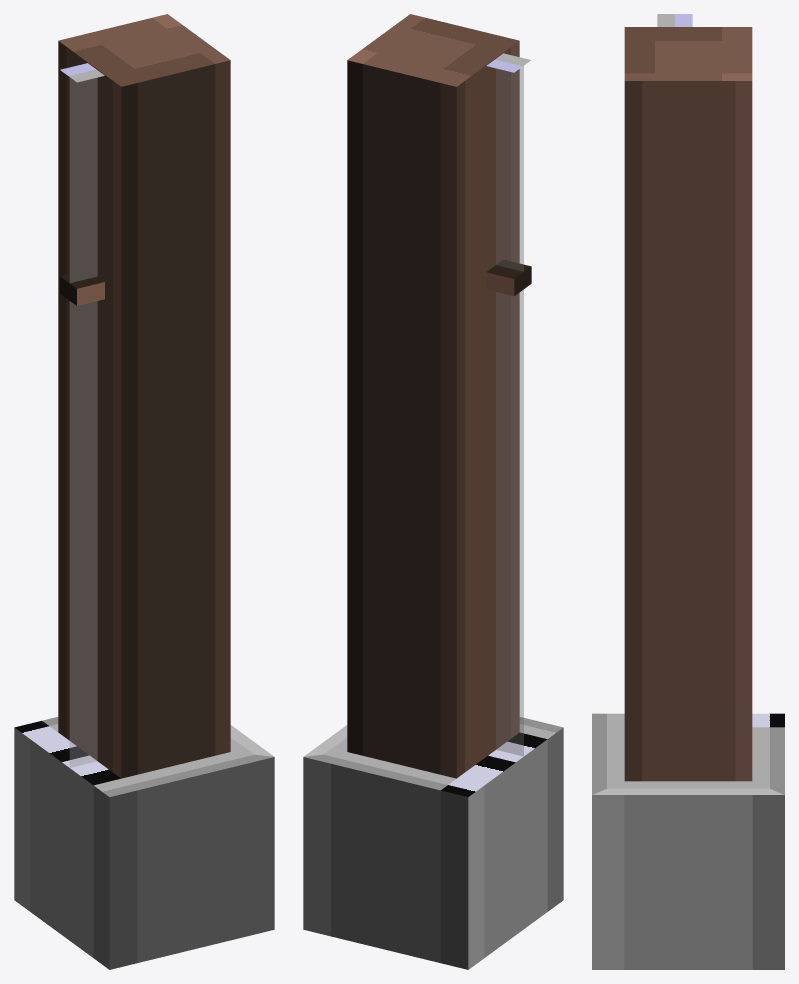
File: greenhouse_roof_853x01.gltf
3 views of the same model, side by side, from view 1: azimuth 30°, elevation 25°; view 2: azimuth 150°, elevation 25°; view 3: azimuth 270°, elevation 25° (orthographic).
Parts seen in each view (by area): view 1: greenhouse_roof_853x01; view 2: greenhouse_roof_853x01; view 3: greenhouse_roof_853x01.
Part boxes in pixels (x1,y1,x2,y2): greenhouse_roof_853x01: [14, 14, 274, 969]; greenhouse_roof_853x01: [303, 14, 563, 969]; greenhouse_roof_853x01: [592, 14, 784, 969].
Size of the model in its own units: 1 by 5 by 1.
2 materials, 2 textured.
